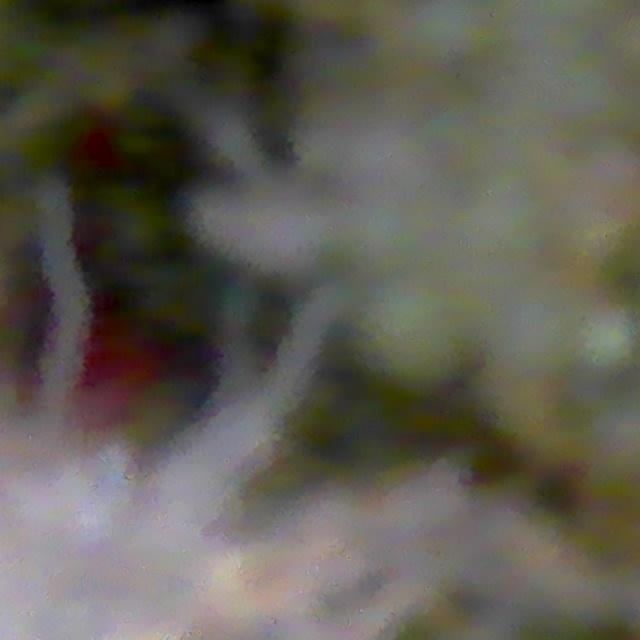SeaGrape: (362, 290, 462, 383), (572, 299, 640, 375)
